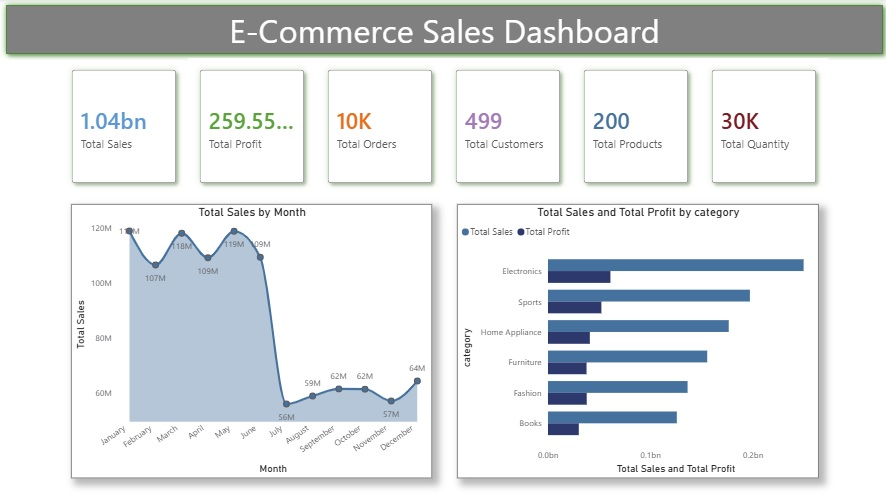

The dashboard page shown, as its layout file describes it:
{"tool":"powerbi","page":{"name":"Dashboard","canvas":[1280,720],"ordinal":0},"visuals":[{"type":"cardVisual","fields":{"Data":["ecommerce customers.Total Sales"]},"box":[86.4,85,184.3,197.3],"z":0},{"type":"shape","box":[0,0,1280.2,87.8],"z":1000},{"type":"cardVisual","fields":{"Data":["ecommerce customers.Total Orders"]},"box":[455,85,184.3,197.3],"z":2000},{"type":"cardVisual","fields":{"Data":["ecommerce customers.Total Quantity"]},"box":[1008,85,184.3,197.3],"z":3000},{"type":"cardVisual","fields":{"Data":["ecommerce customers.Total Products"]},"box":[823.7,85,184.3,197.3],"z":4000},{"type":"cardVisual","fields":{"Data":["ecommerce customers.Total Customers"]},"box":[639.4,85,184.3,197.3],"z":5000},{"type":"cardVisual","fields":{"Data":["ecommerce customers.Total Profit"]},"box":[270.7,85,184.3,197.3],"z":6000},{"type":"lineChart","fields":{"Category":["ecommerce orders.order_date.Variation.Date Hierarchy.Month"],"Y":["ecommerce customers.Total Sales"]},"box":[102.2,295.2,519.8,394.6],"z":7000},{"type":"clusteredBarChart","fields":{"Category":["ecommerce products.category"],"Y":["ecommerce customers.Total Sales","ecommerce customers.Total Profit"]},"box":[658.5,295.6,520.7,394.8],"z":8000}]}

Visuals, with their boxes in screenshot pixels (x1, y1, x2, y2), scaled from the page's 1280x720 canvas onto the 886x499 screenshot:
cardVisual - ecommerce customers.Total Sales: bbox(60, 59, 187, 196)
shape: bbox(0, 0, 885, 61)
cardVisual - ecommerce customers.Total Orders: bbox(315, 59, 443, 196)
cardVisual - ecommerce customers.Total Quantity: bbox(698, 59, 825, 196)
cardVisual - ecommerce customers.Total Products: bbox(570, 59, 698, 196)
cardVisual - ecommerce customers.Total Customers: bbox(443, 59, 570, 196)
cardVisual - ecommerce customers.Total Profit: bbox(187, 59, 315, 196)
lineChart - ecommerce orders.order_date.Variation.Date Hierarchy.Month x ecommerce customers.Total Sales: bbox(71, 205, 431, 478)
clusteredBarChart - ecommerce products.category x ecommerce customers.Total Sales: bbox(456, 205, 816, 478)
